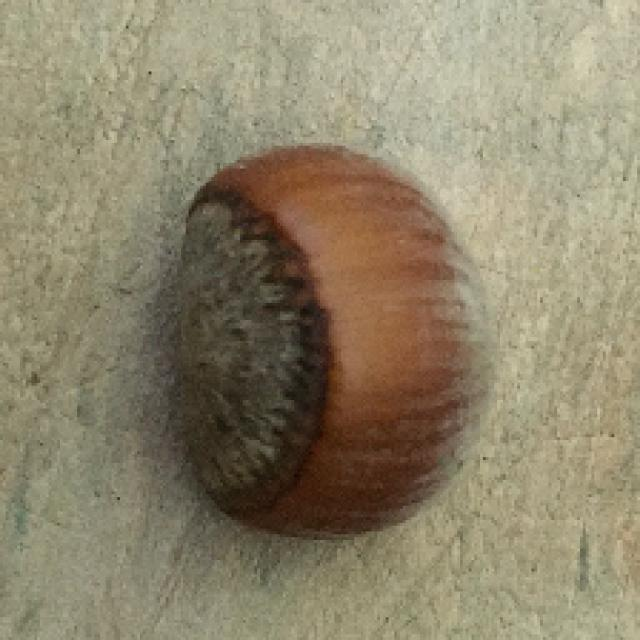qualityHazelnut: (174, 146, 491, 535)
